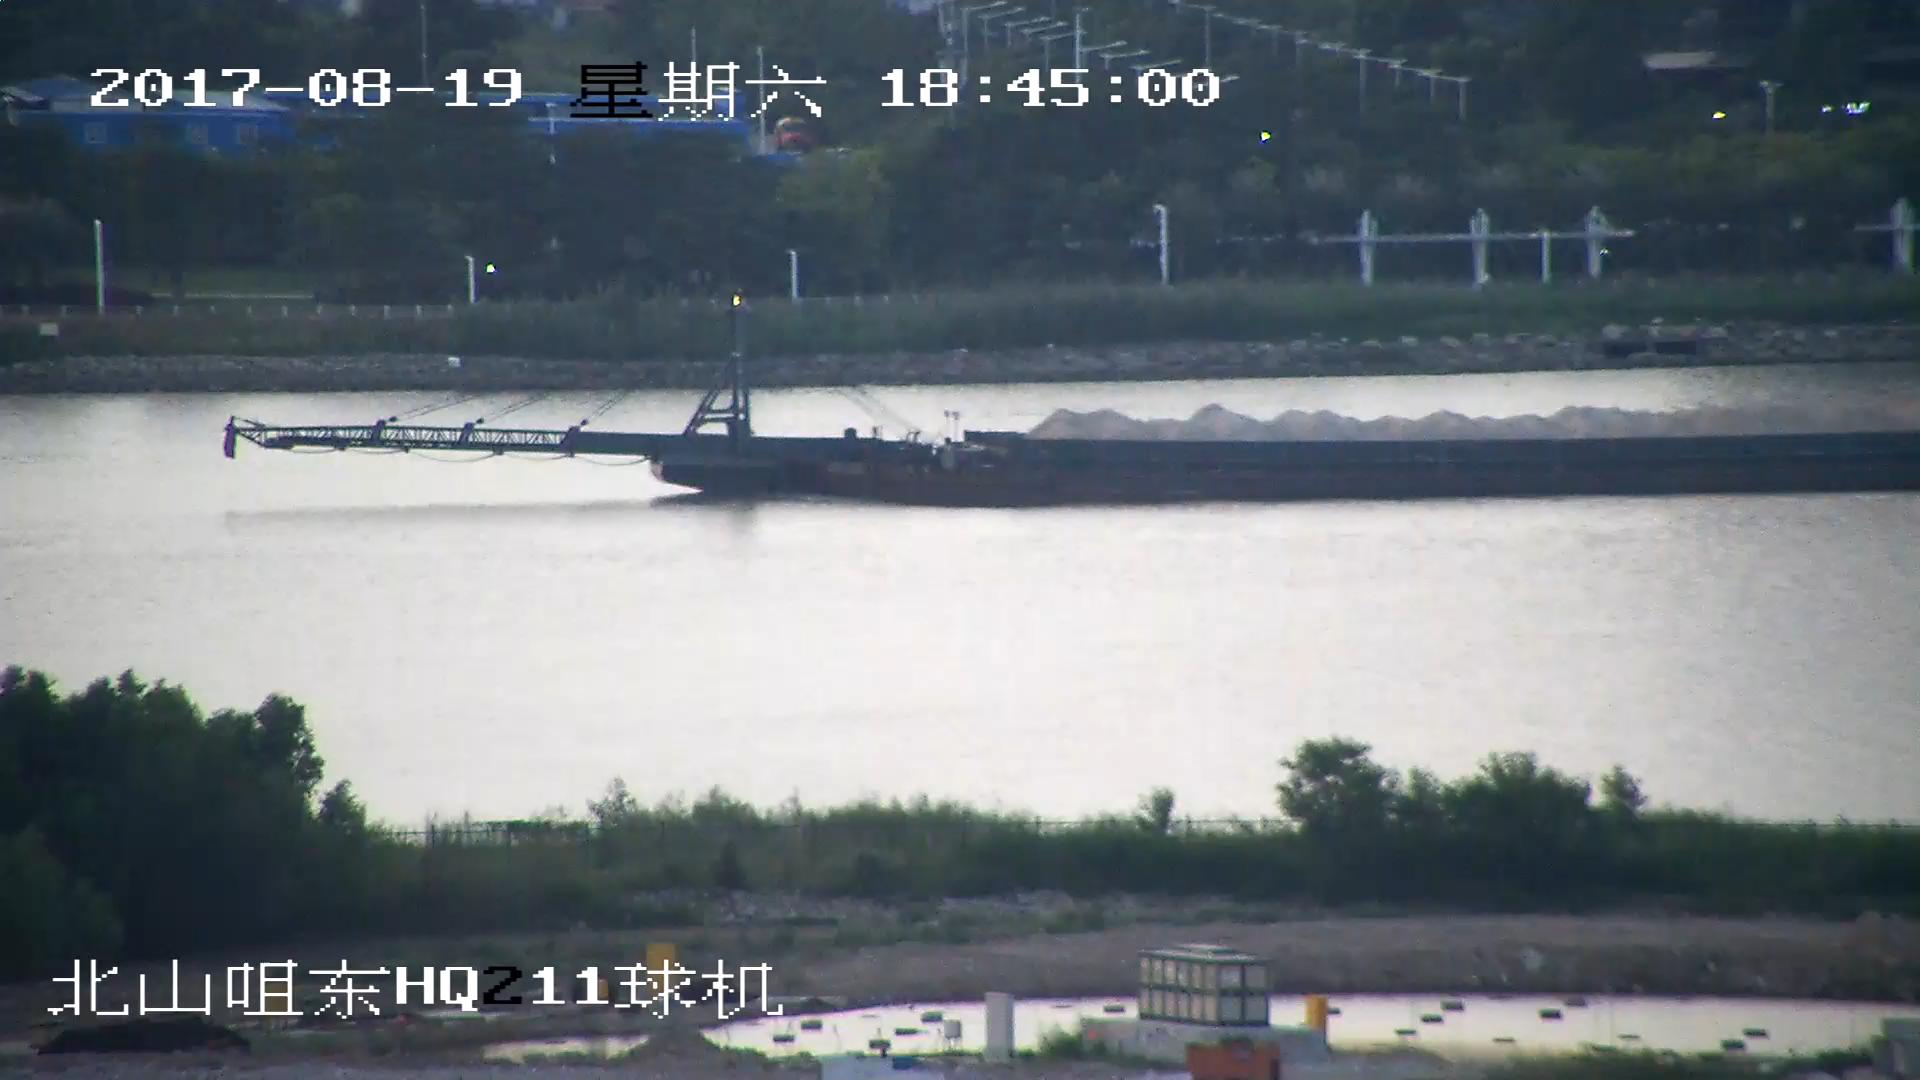ore carrier: (224, 299, 1920, 508)
